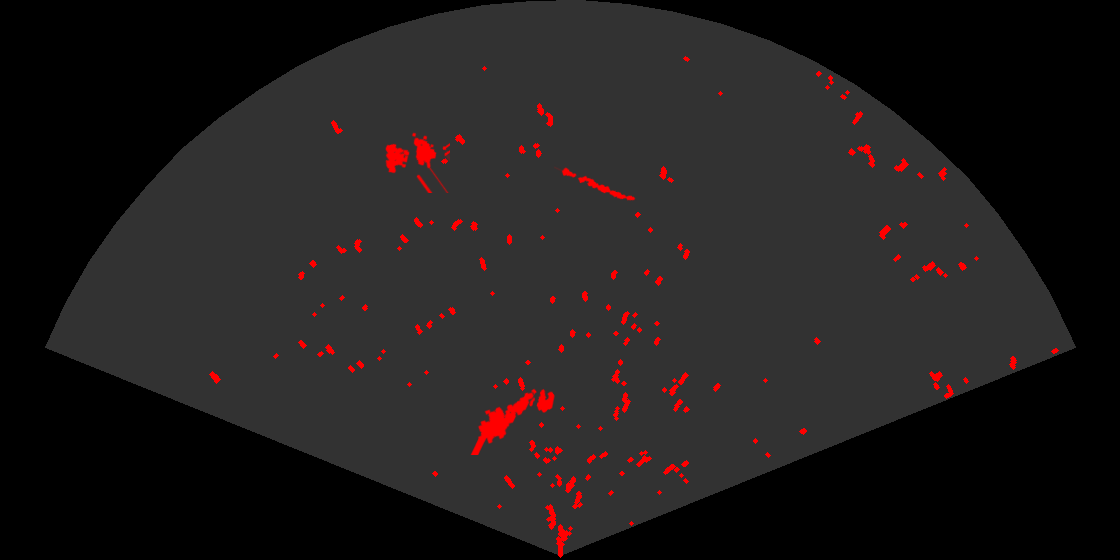ball: (527, 387, 556, 414)
cage: (384, 131, 450, 193)
chain: (554, 165, 637, 202)
frogman: (469, 391, 535, 455)
